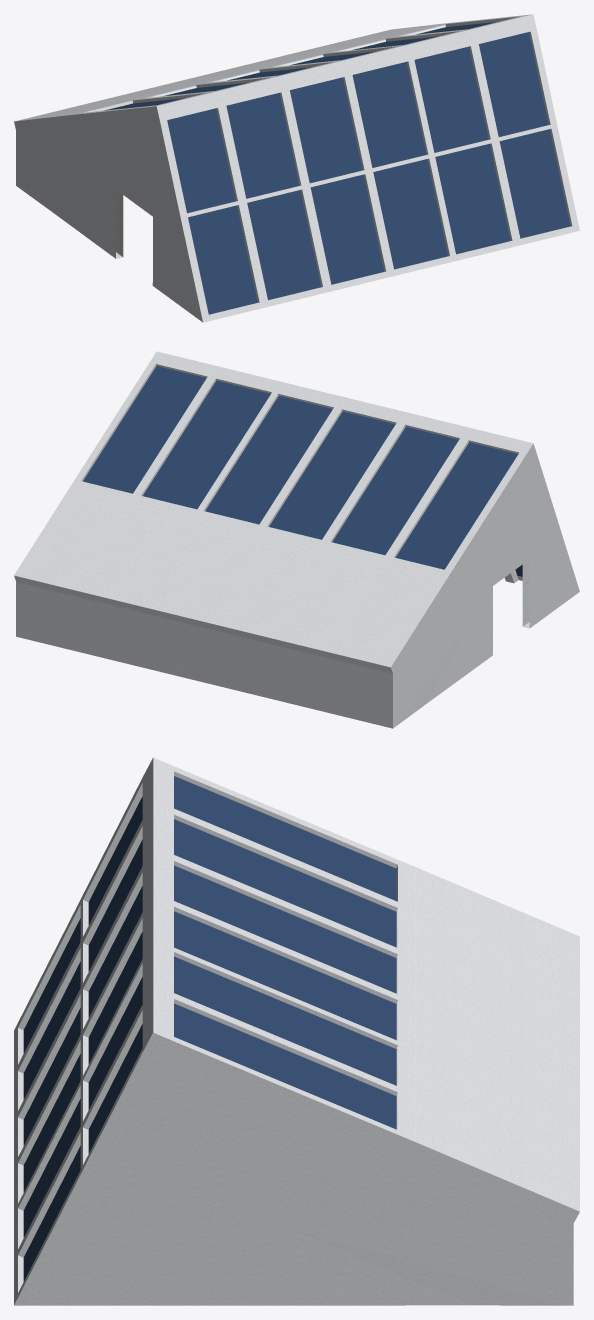
Rendered from det_roof.fbx.
3 renders of one model, top to bottom at view 1: azimuth 30°, elevation 25°; view 2: azimuth 150°, elevation 25°; view 3: azimuth 270°, elevation 25°, orthographic. The views are drawn at different scales.
Parts seen in each view (by area): view 1: roof; view 2: roof; view 3: roof.
Part boxes in pixels (<box>): roof: <box>14,14,579,322</box>; roof: <box>14,351,579,728</box>; roof: <box>14,757,579,1305</box>.
Bounding box in the file's own units: 20.14 × 9.32 × 17.51.
